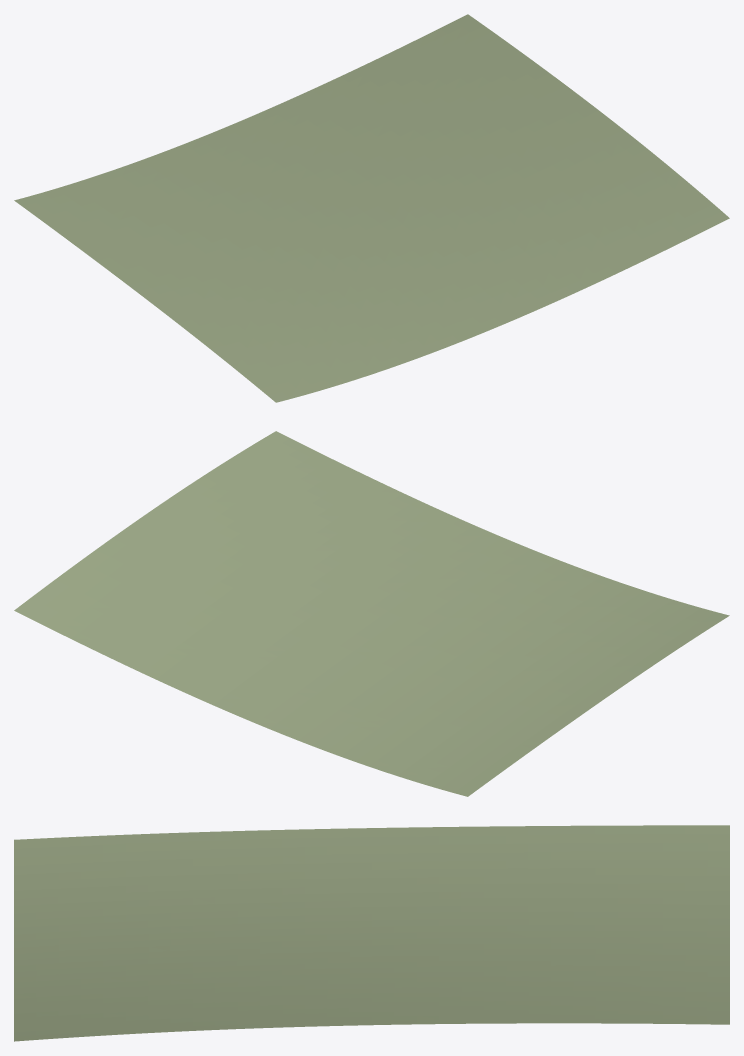
File: desert-22-7.glb
3 renders of one model, top to bottom at view 1: azimuth 30°, elevation 25°; view 2: azimuth 150°, elevation 25°; view 3: azimuth 270°, elevation 25°, orthographic. The views are drawn at different scales.
Parts seen in each view (by area): view 1: desert-22-7; view 2: desert-22-7; view 3: desert-22-7.
Boxes of the visible parts, bbox=[...] form: desert-22-7: bbox=[14, 14, 729, 402]; desert-22-7: bbox=[14, 431, 729, 796]; desert-22-7: bbox=[14, 825, 729, 1041].
Bounding box in the file's own units: 512 × 93.9 × 512.
